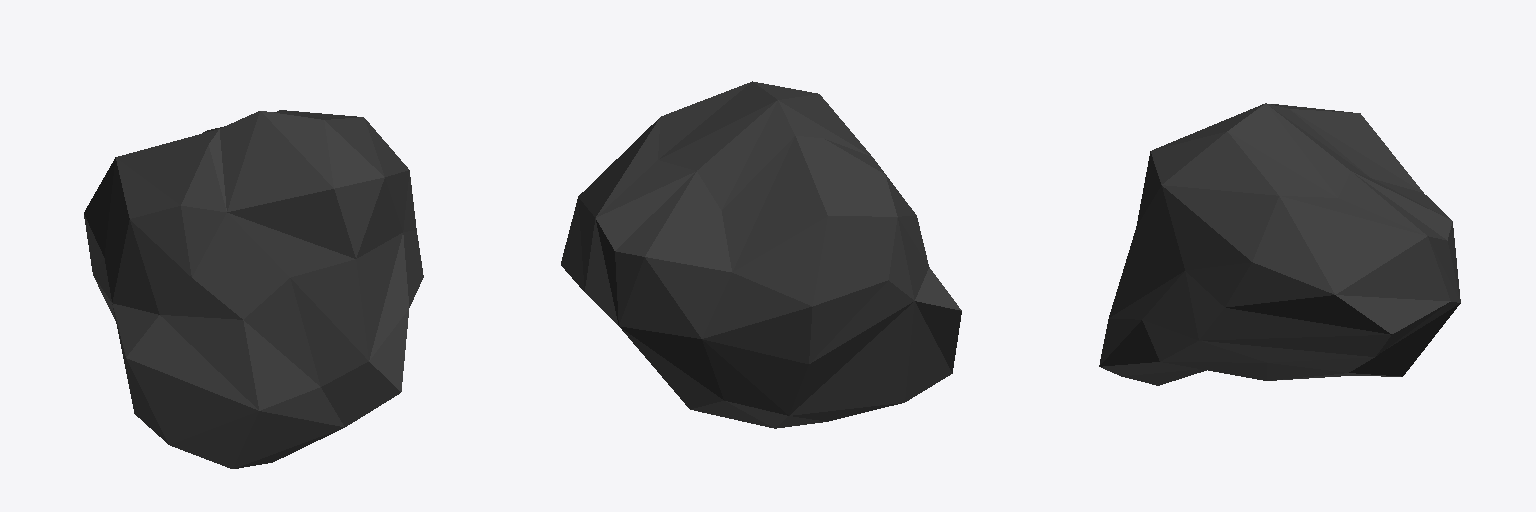
File: Ast2.obj
3 renders of one model, left to right at view 1: azimuth 30°, elevation 25°; view 2: azimuth 150°, elevation 25°; view 3: azimuth 270°, elevation 25°, orthographic.
Visible parts, largest first — view 1: Asteroid_2; view 2: Asteroid_2; view 3: Asteroid_2.
Boxes of the visible parts, box(x1,y1,x2,y2) form: Asteroid_2: box(84, 110, 423, 468); Asteroid_2: box(561, 81, 961, 428); Asteroid_2: box(1099, 103, 1460, 385).
Bounding box in the file's own units: 84.54 × 75.47 × 81.72.